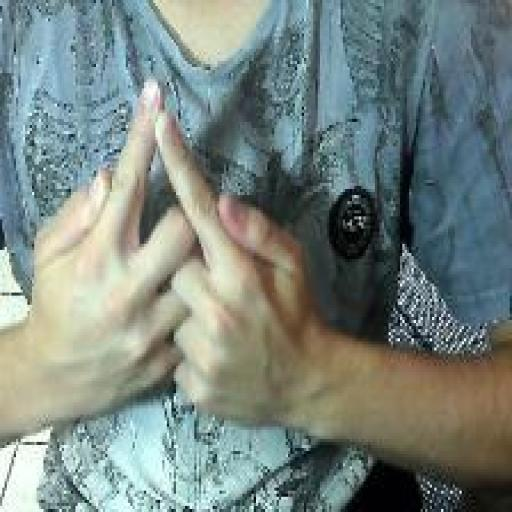Uma -horse-: (25, 73, 320, 439)
